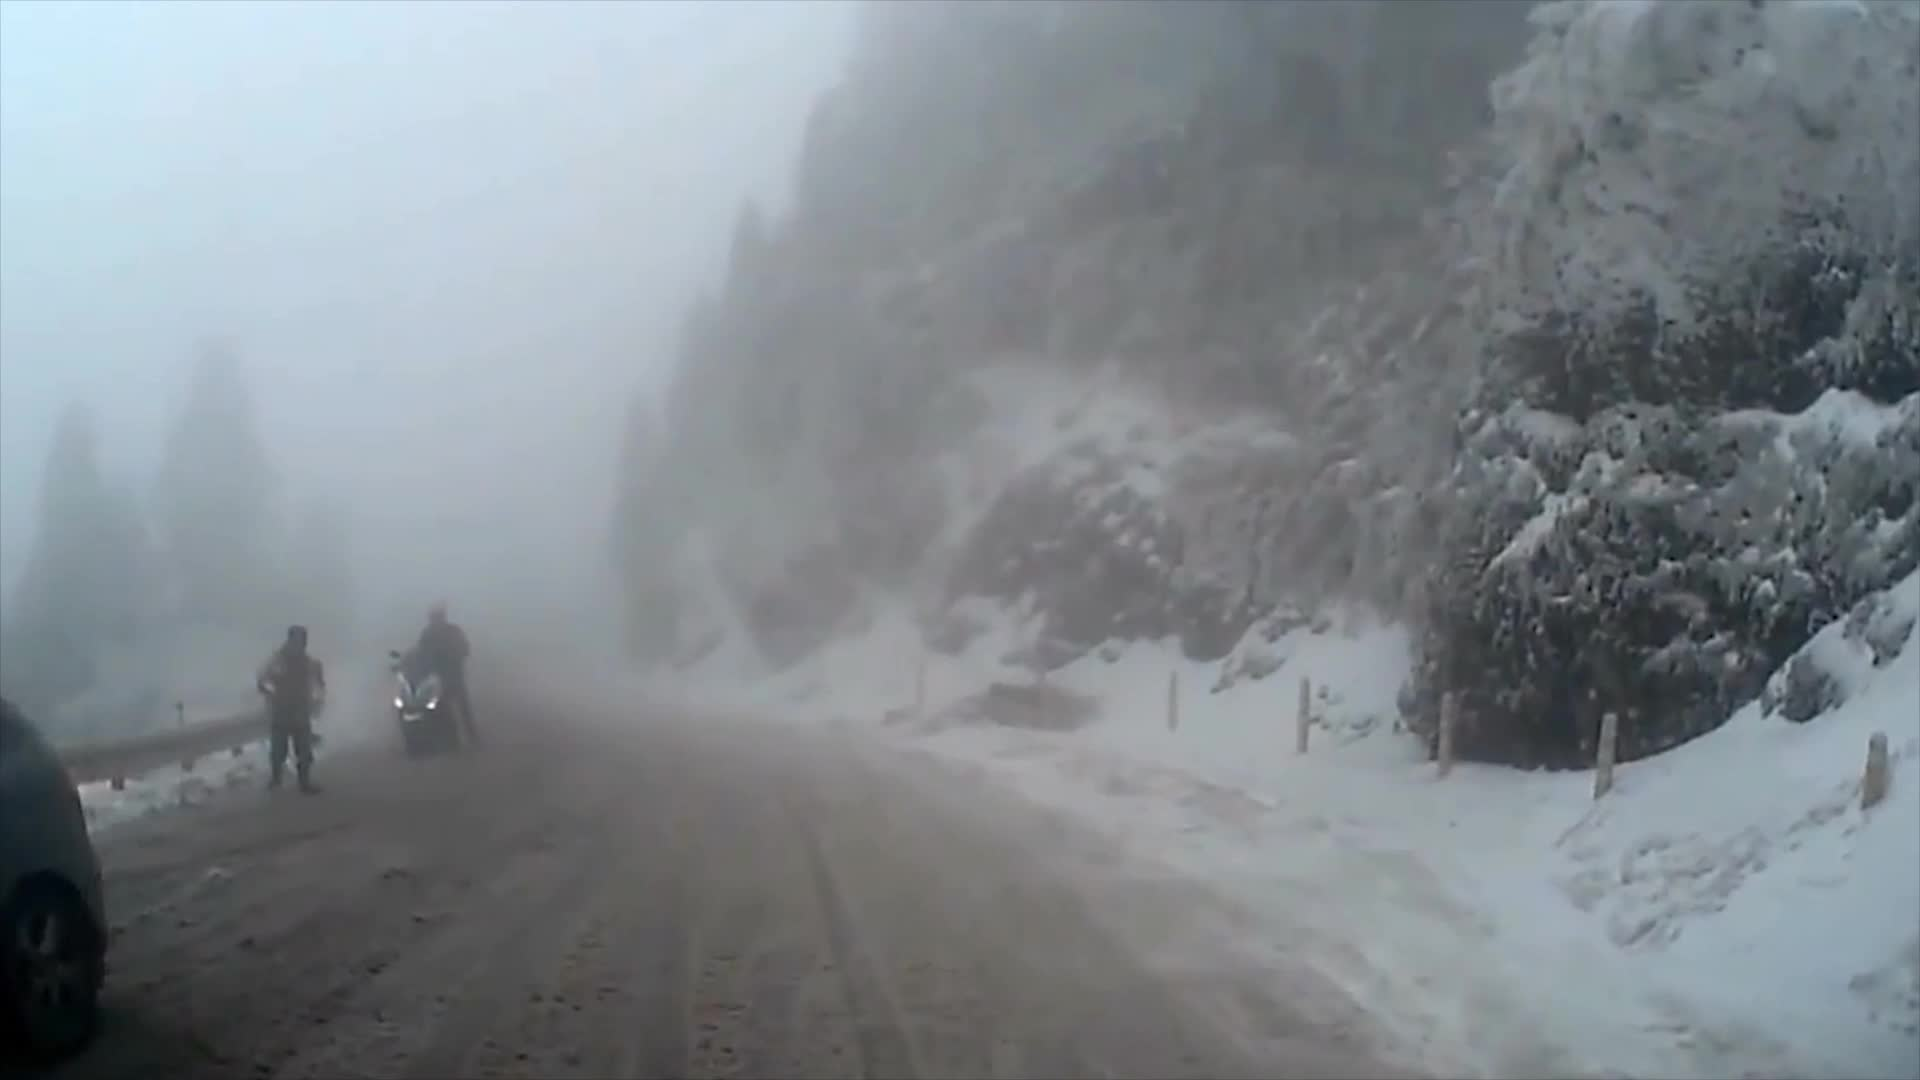pedestrian: (408, 602, 488, 757), (257, 631, 331, 799)
vehicle: (0, 701, 113, 1080)
